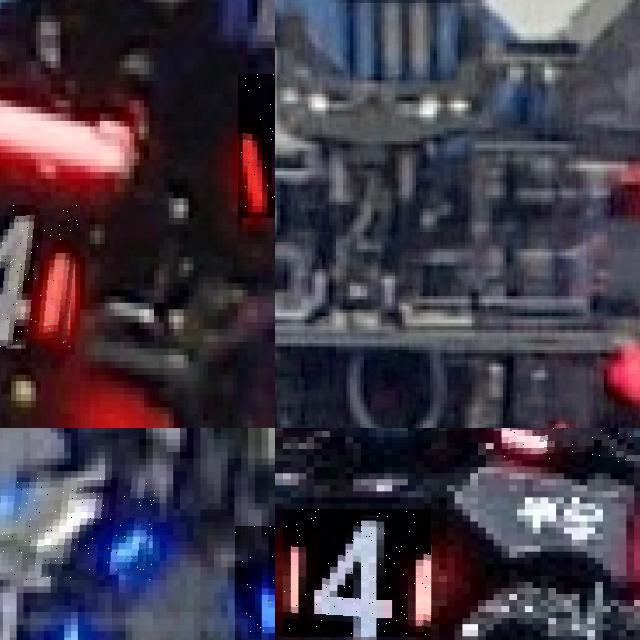B1: (0, 477, 156, 580), (0, 573, 95, 640), (234, 525, 275, 640)
R4: (283, 509, 431, 637), (0, 204, 80, 348), (237, 74, 275, 217), (501, 428, 634, 467)
